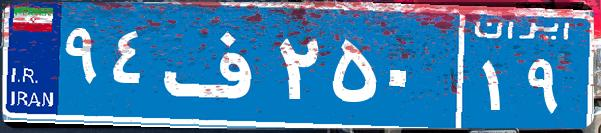0: (385, 28, 445, 110)
1: (475, 38, 525, 113)
2: (273, 28, 330, 110)
4: (110, 28, 158, 105)
5: (330, 28, 385, 110)
9: (57, 26, 110, 107), (525, 38, 570, 115)
ف: (158, 15, 273, 115)
